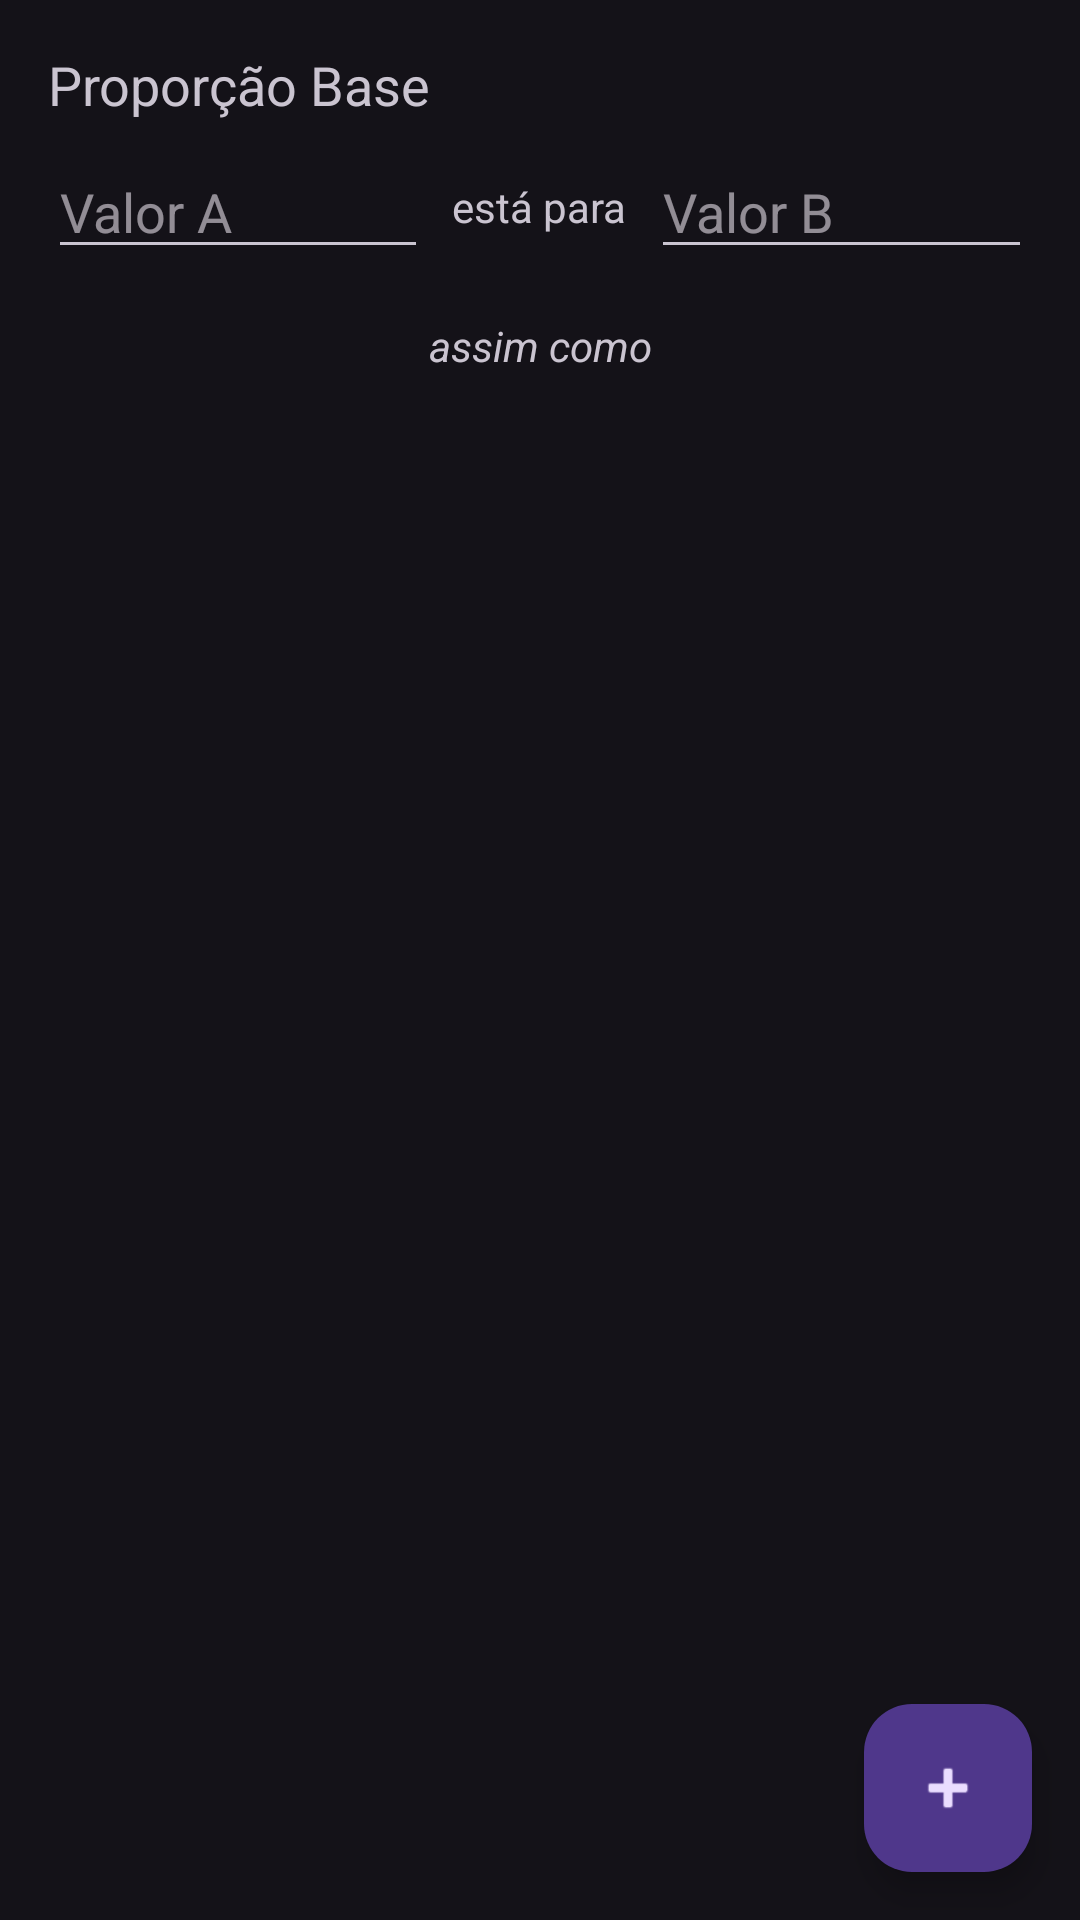

Locate icon controls on the screen. Image size 1080px×1920px, boxes as detection(x1, y1, x2, y2).
Adicionar Linha: detection(864, 1704, 1032, 1872)
